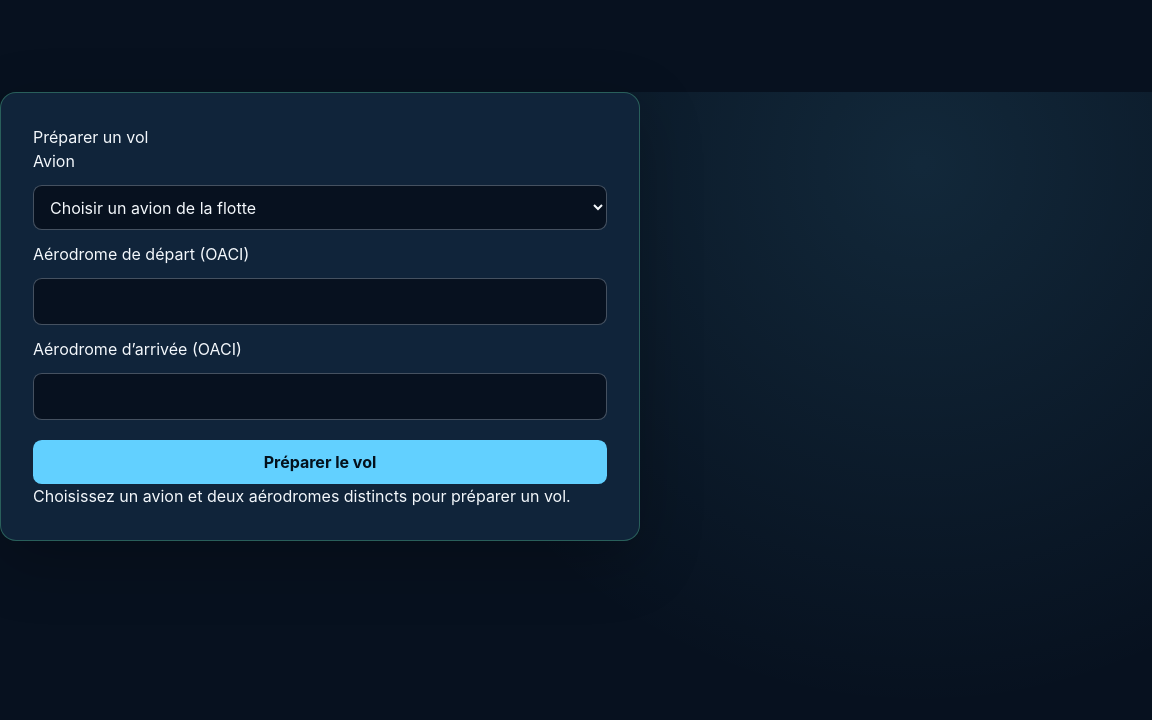
Test: FlightDispatchPanel › refuse une soumission sans avion sélectionné
Type "LFPG" into the field labelled "Aérodrome de départ (OACI)". click: (320, 301)
box: [33,278,607,325]
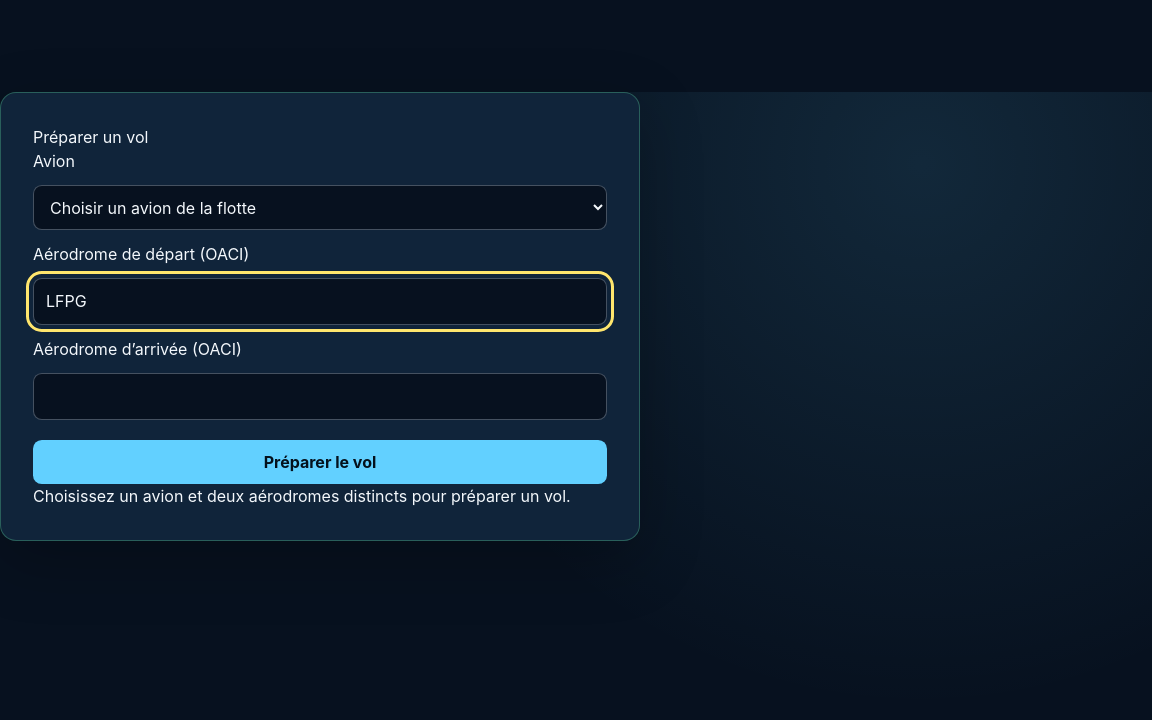
Type "LFBO" into the field labelled "Aérodrome d’arrivée (OACI)". click: (320, 396)
box: [33,373,607,420]
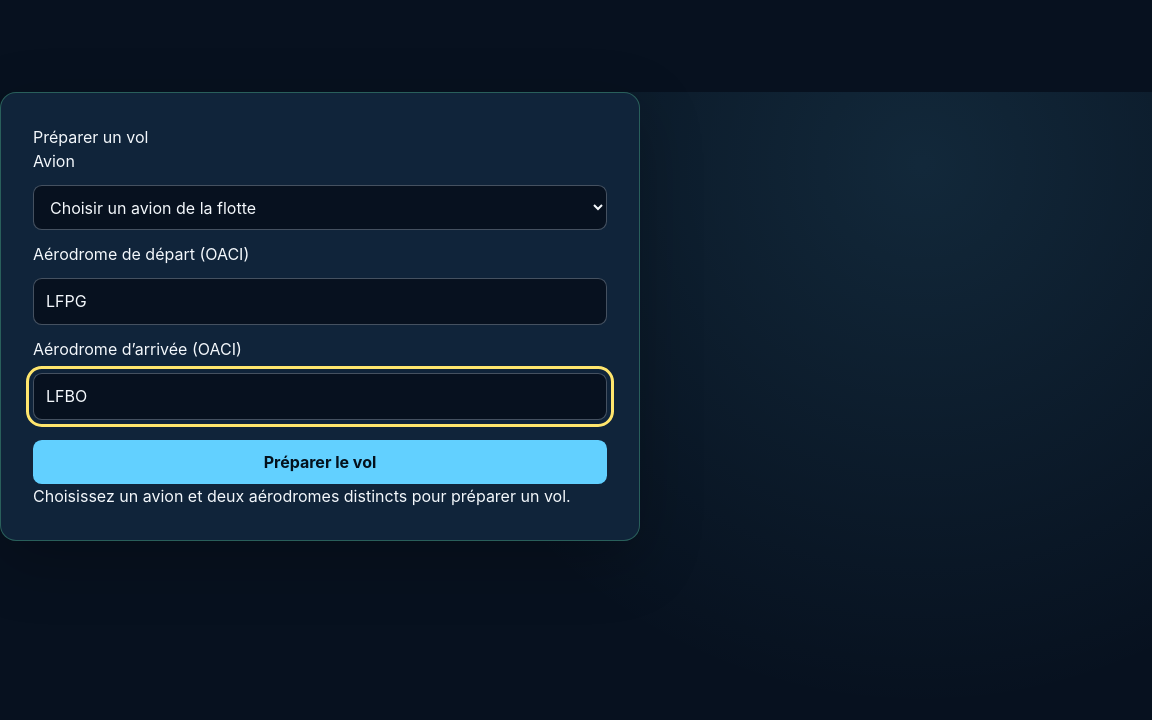
Click the button "Préparer le vol". click: (320, 462)
box: [33,440,607,484]
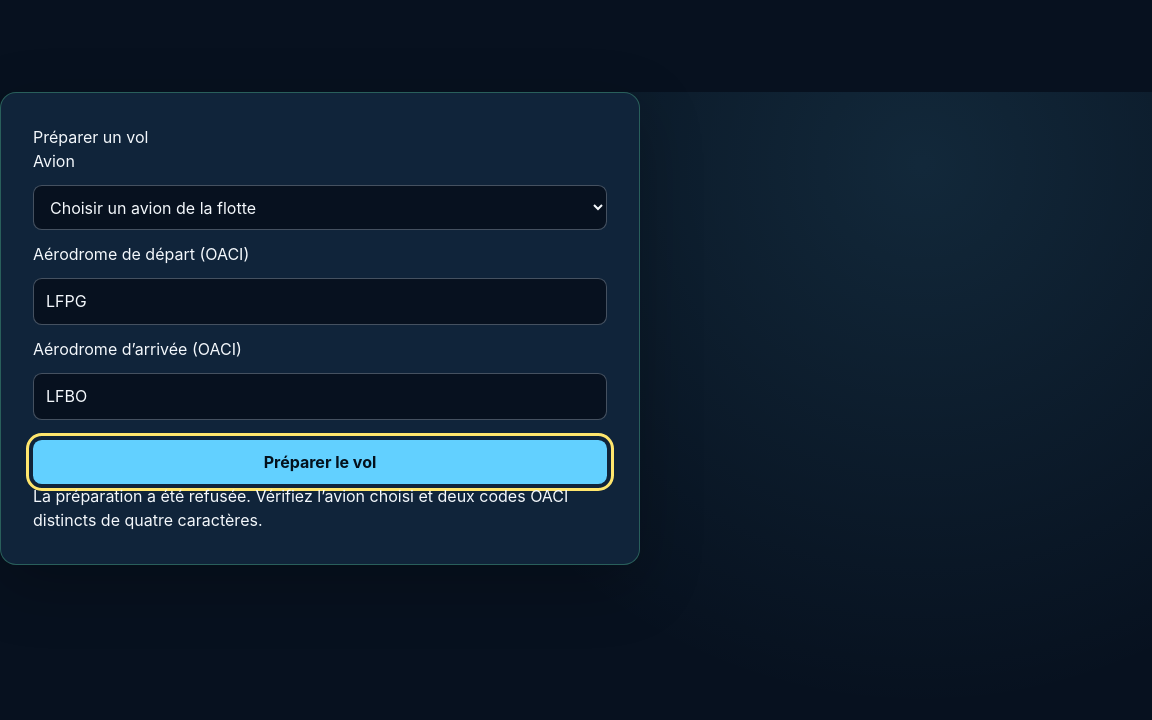
Expected: the message shows "La préparation a été refusée.", [33,486,568,530]
